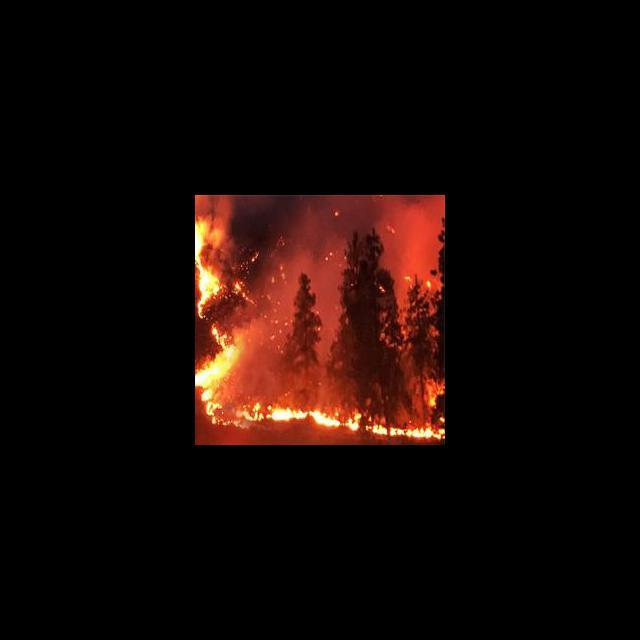Fire: (196, 219, 444, 444)
